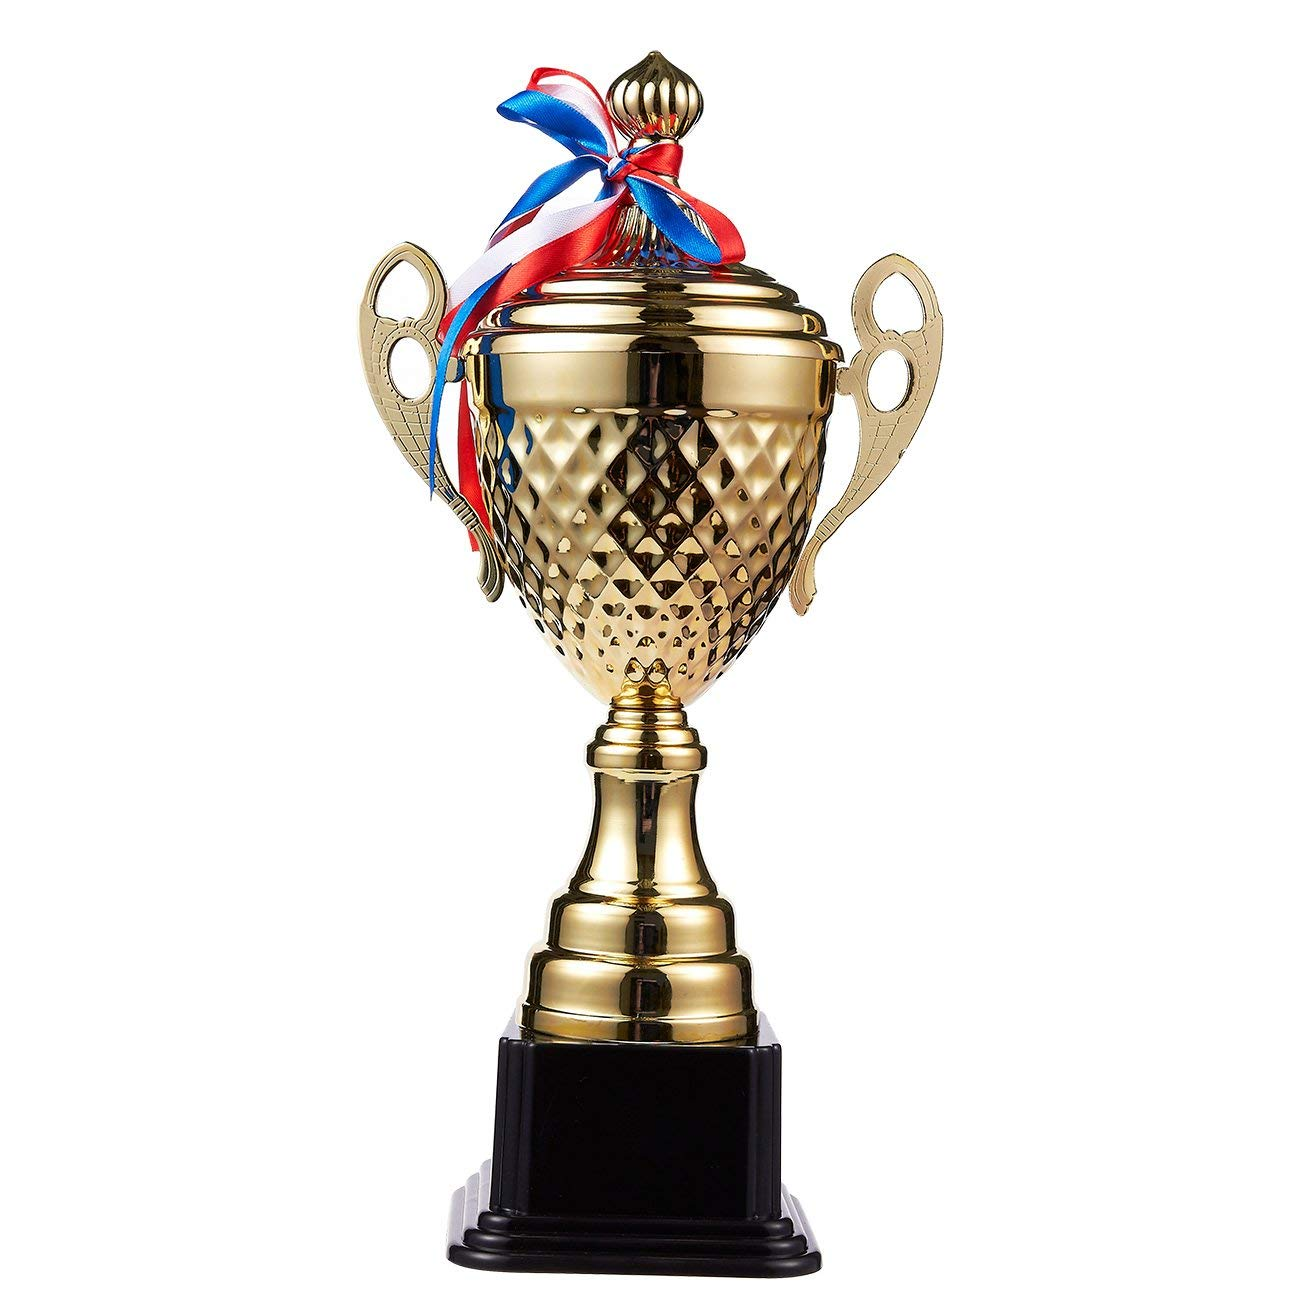trophy: (351, 46, 948, 1295)
